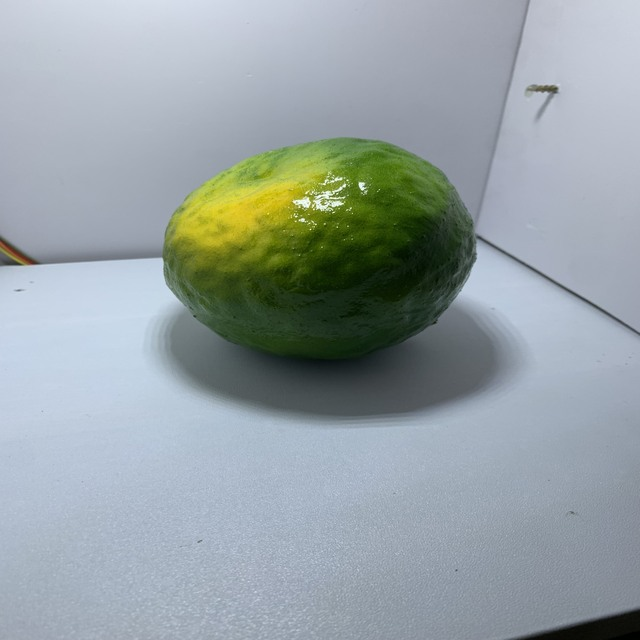Cam xanh: (154, 125, 494, 372)
